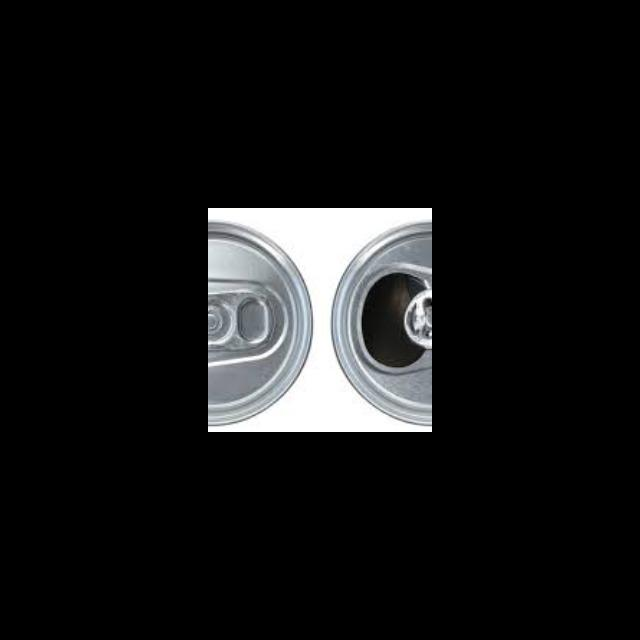metal: (208, 211, 317, 432), (328, 217, 432, 432)
